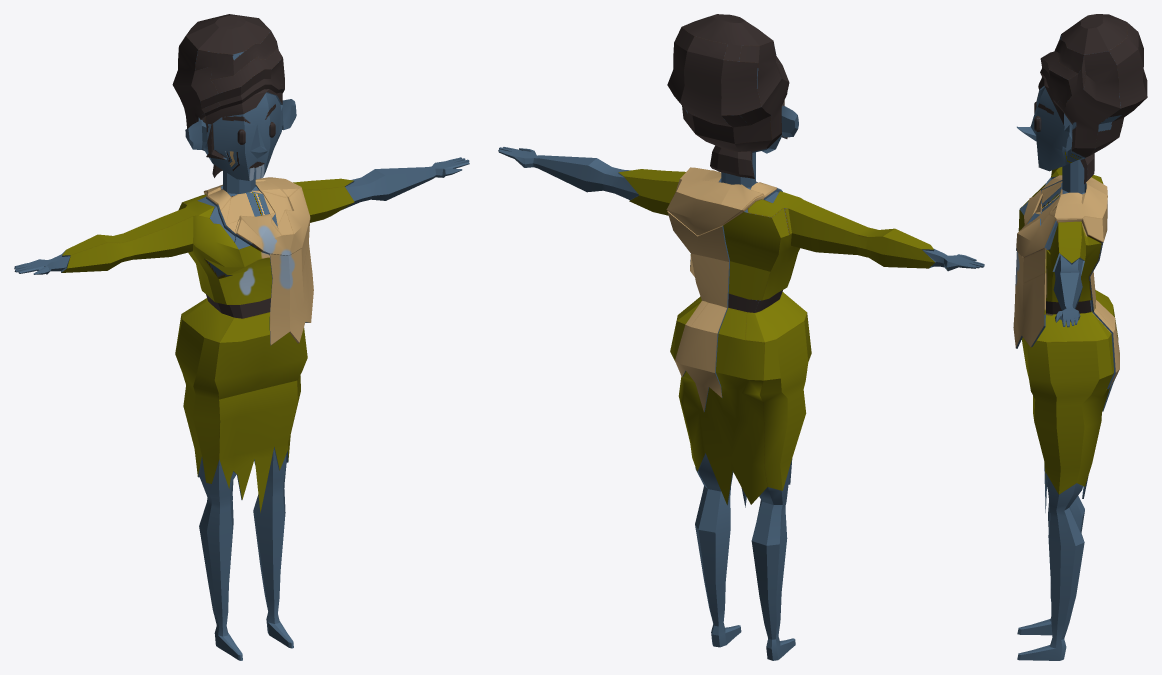
The model's file is cholera_w.fbx.
3 renders of one model, left to right at view 1: azimuth 30°, elevation 25°; view 2: azimuth 150°, elevation 25°; view 3: azimuth 270°, elevation 25°, orthographic. The views are drawn at different scales.
Visible parts, largest first — view 1: Symmetry_1; view 2: Symmetry_1; view 3: Symmetry_1.
Boxes of the visible parts, bbox=[...] form: Symmetry_1: bbox=[14, 14, 469, 660]; Symmetry_1: bbox=[498, 14, 984, 660]; Symmetry_1: bbox=[1013, 14, 1147, 660].
Bounding box in the file's own units: 310 × 397 × 77.05.
Materials: 1 (1 with a texture image).
